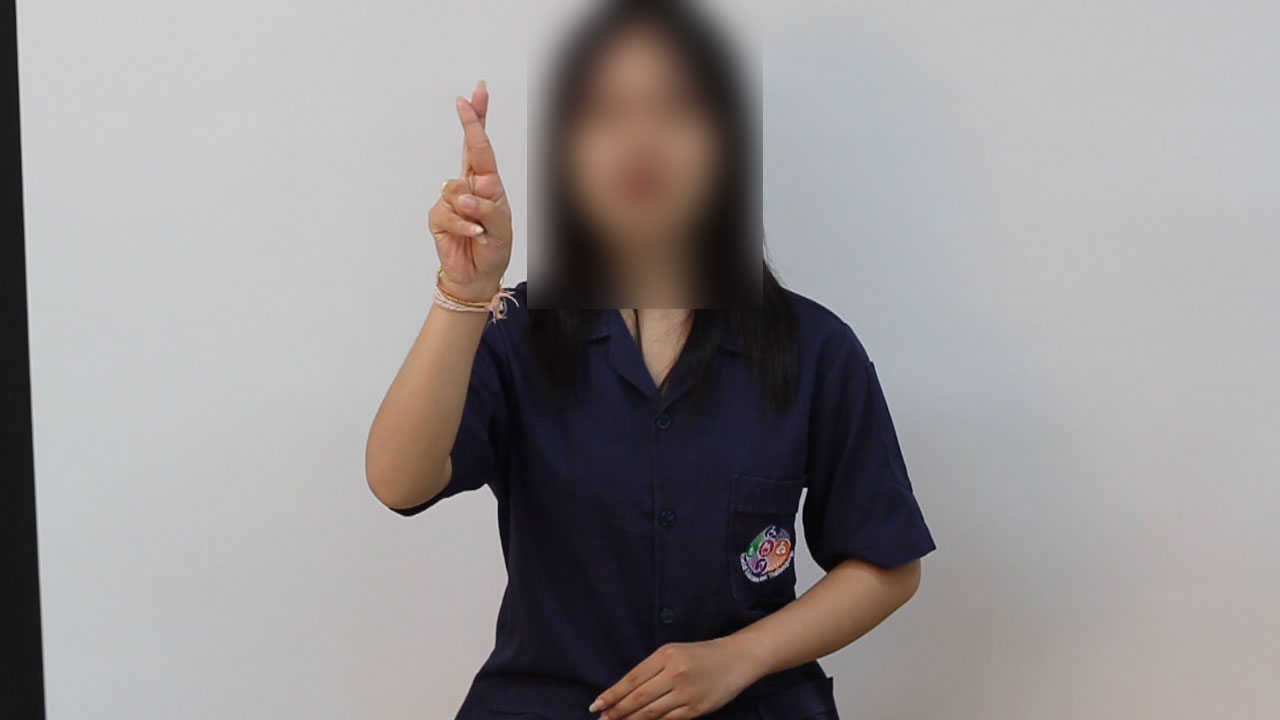rao: (404, 74, 533, 312)
